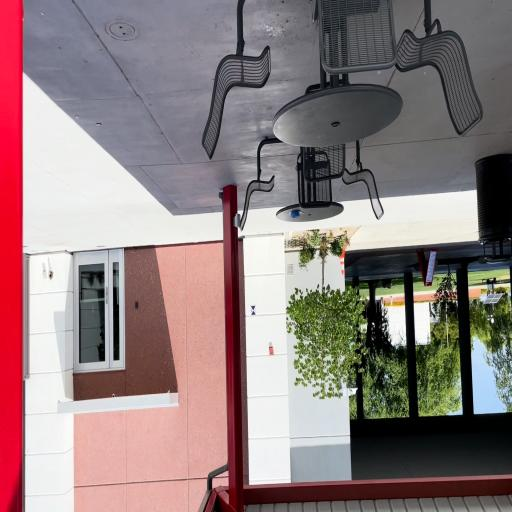target9: (251, 305, 256, 315)
